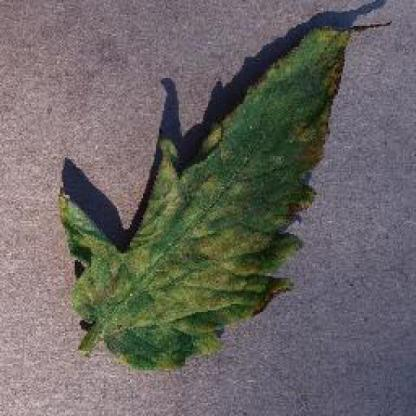Tomato_Leaf_Mold: (60, 27, 360, 369)
